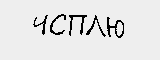Л: (83, 13, 107, 39)
П: (67, 13, 86, 39)
С: (49, 12, 67, 37)
Ч: (33, 12, 49, 38)
Ю: (104, 17, 126, 41)
